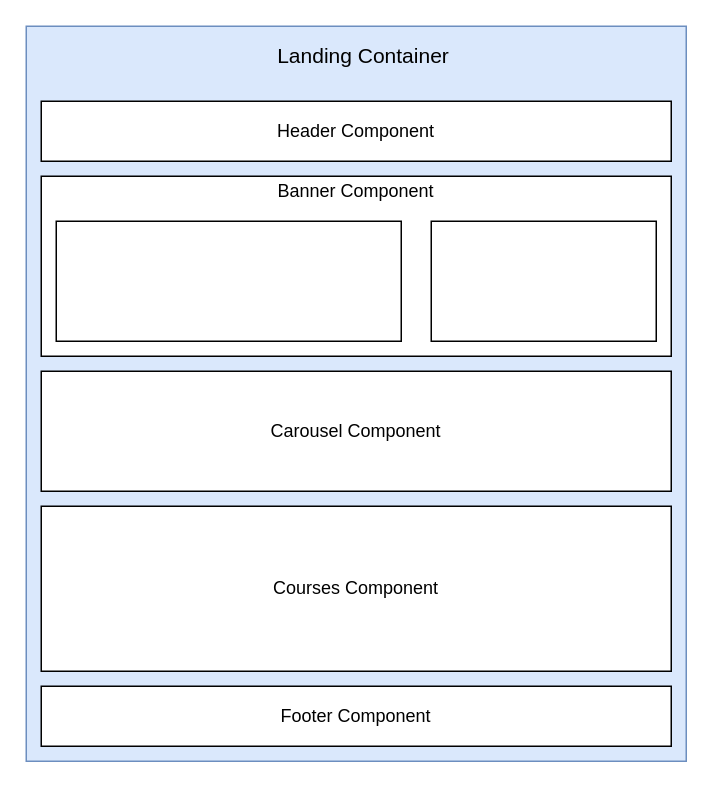
This 713x788 diagram has some shape labels left out. Here are the shapes that lost their labels. From the top down, the centre of each, then its label:
At point 228,280: "Banner Text".
At point 543,280: "Banner Image".
